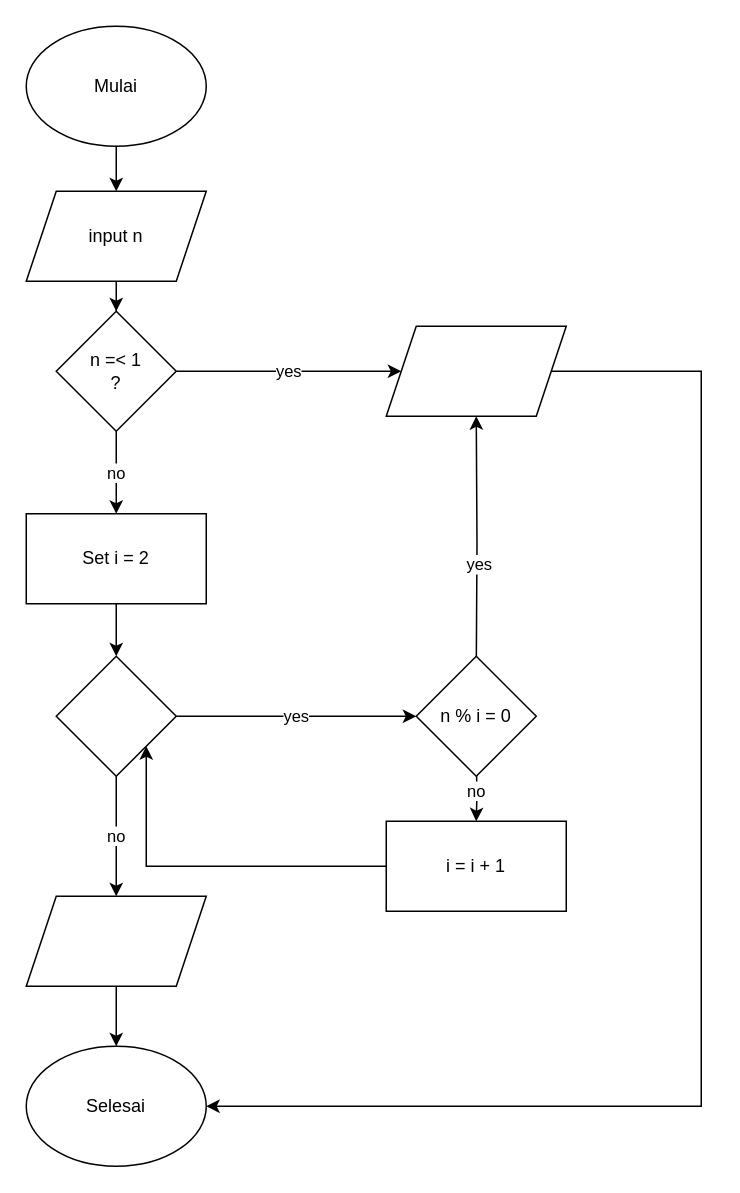
Some shapes in this 740 by 1193 pixel diagram are drawn without their labels. Each missing label, with the centre of its shape:
"Bilangan Prima" belongs at pixel 115 940.
"Bukan Bilangan Prima" belongs at pixel 475 370.
"i < n ?" belongs at pixel 115 715.
